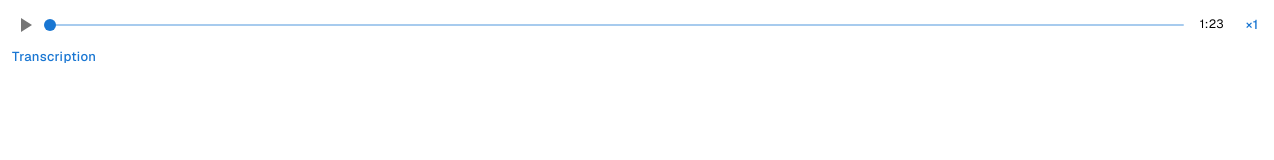
Test: VoiceBubble › says the audio is missing in the bubble, and can be tried again
The image size is (1274, 160).
Click the button named "Lecture": coordinates (25, 25) [8, 8, 42, 42]
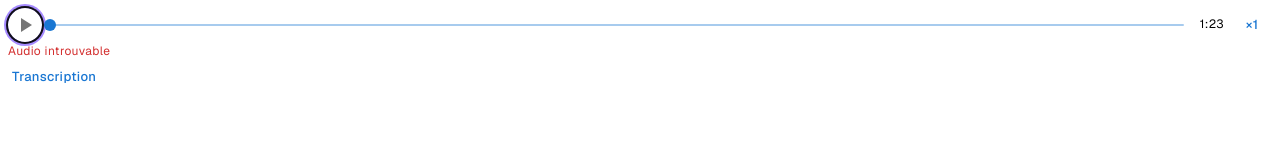
Now the message reads "Audio introuvable", box [8, 43, 110, 59]
Click the button named "Lecture": coordinates (25, 25) [8, 8, 42, 42]
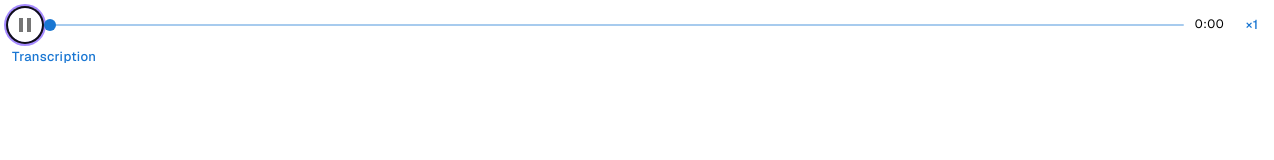
Now the message "Audio introuvable" is gone
